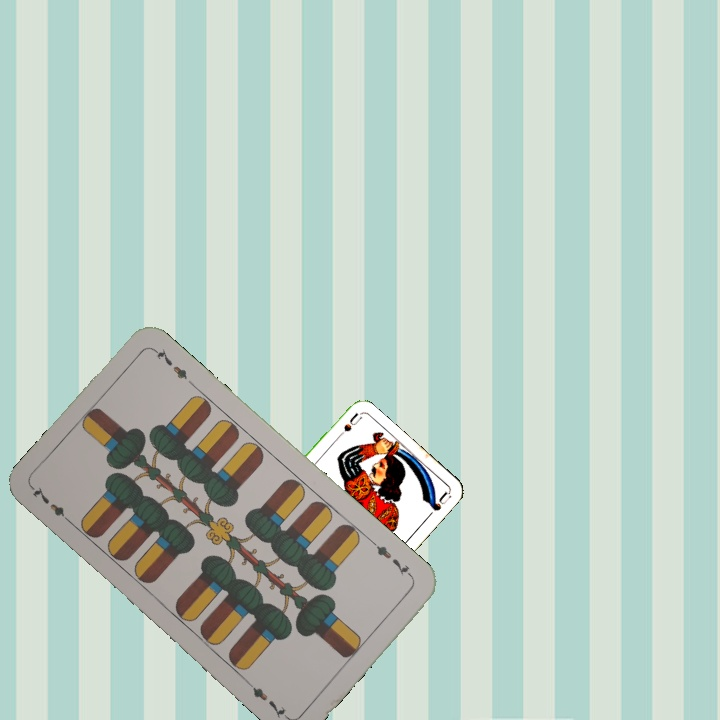E7: (28, 482, 76, 528), (367, 537, 416, 581)
SU: (330, 409, 364, 445)
